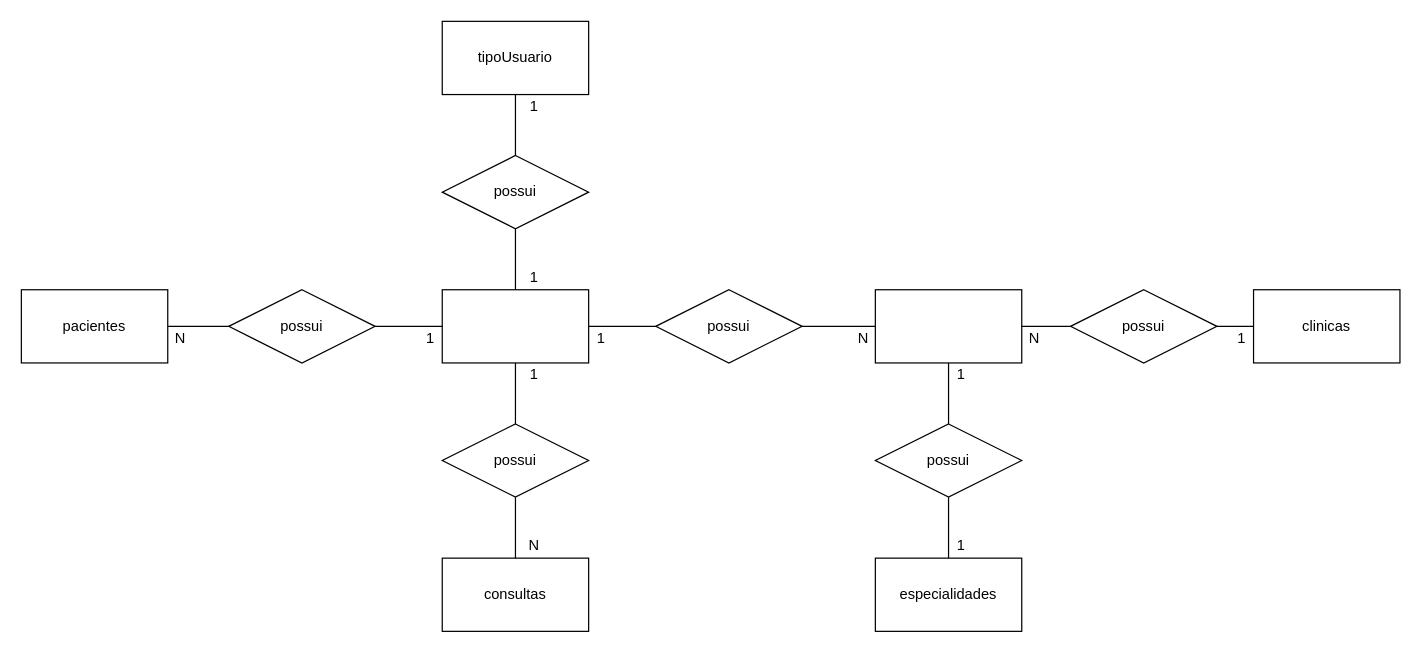
The diagram is 1421 pixels wide and 653 high, and some of its shapes have lost their labels. Here are the shapes that lost their labels. From the top down, the box of each, then its label:
(441, 289, 589, 363): usuario
(874, 289, 1022, 363): medico
